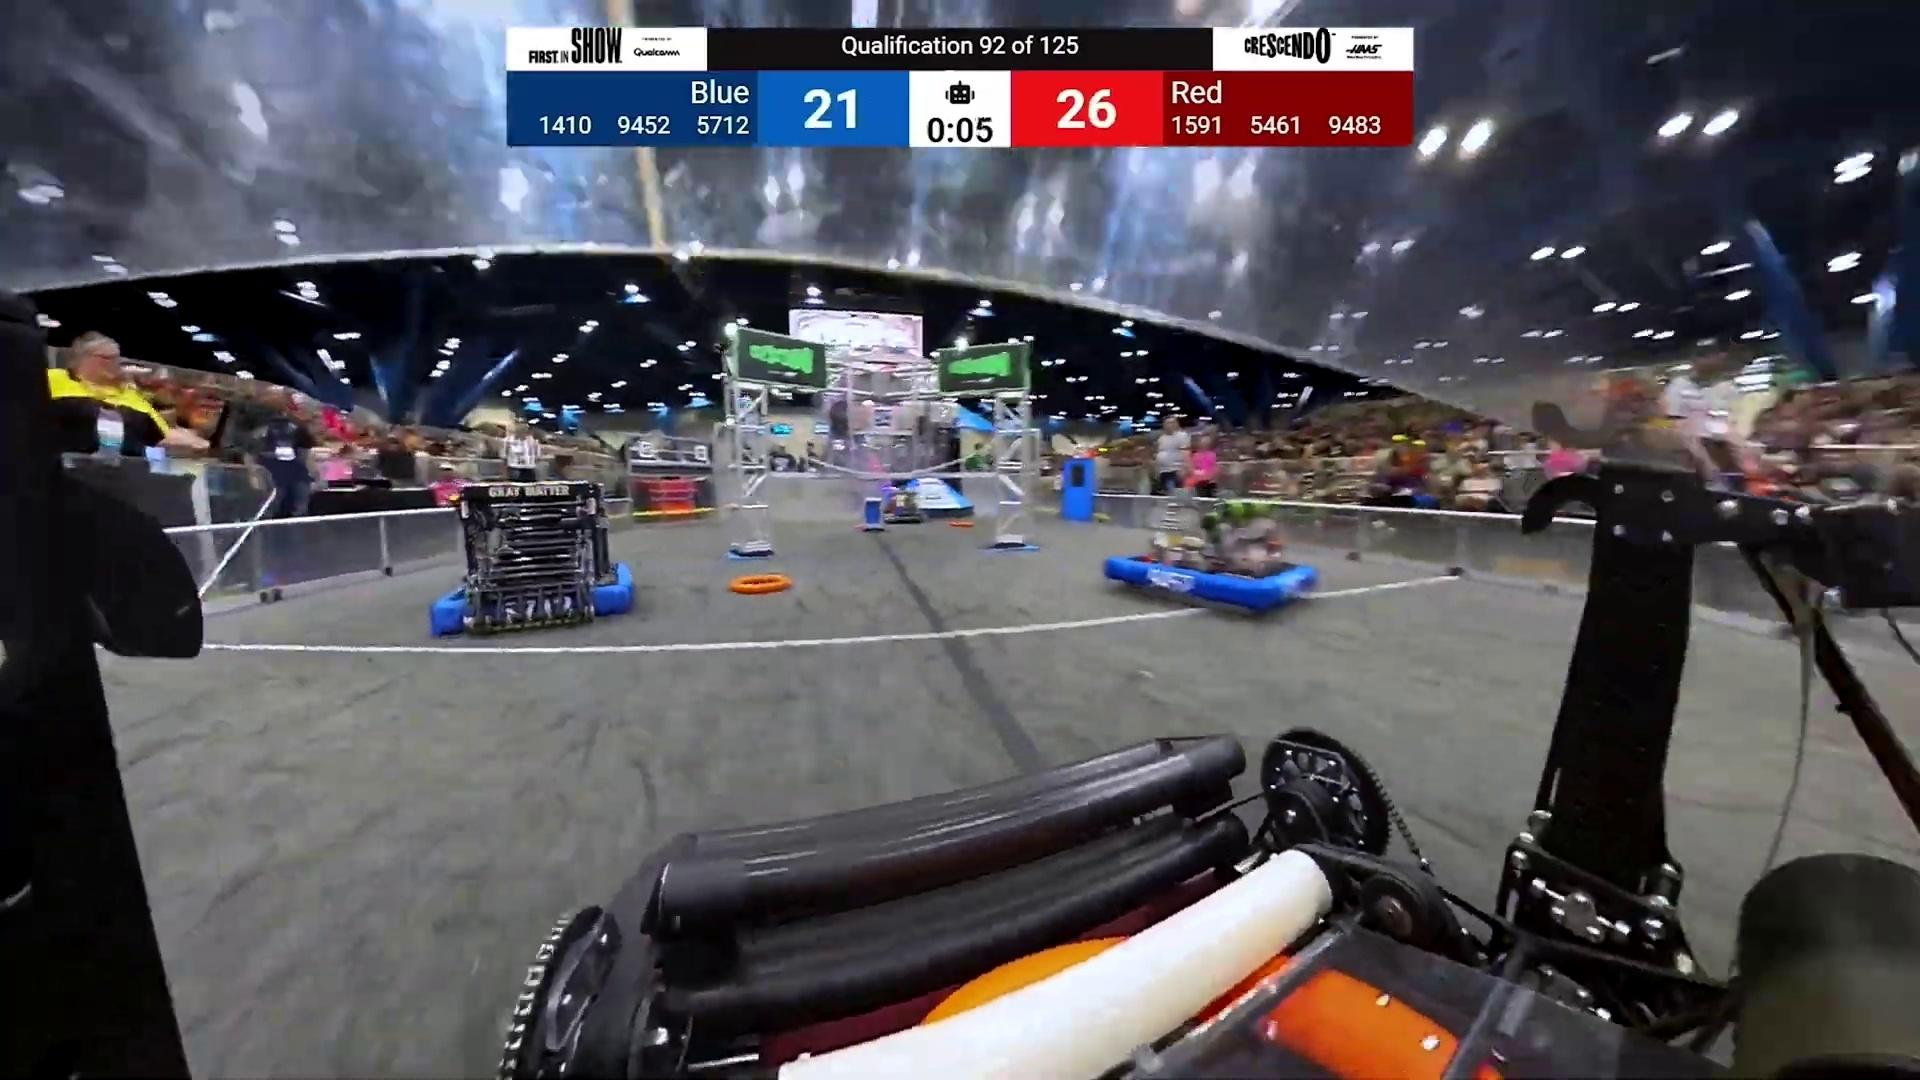robot: (430, 481, 632, 636), (1101, 487, 1316, 615), (886, 495, 926, 526)
